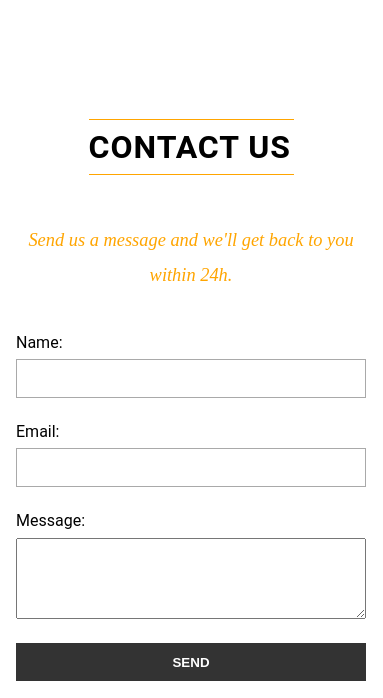
Test: renders success message on success
Type "Cristian" into the field labelled "Name:".
click(191, 379); type("Cristian")  # box [16,359,366,398]
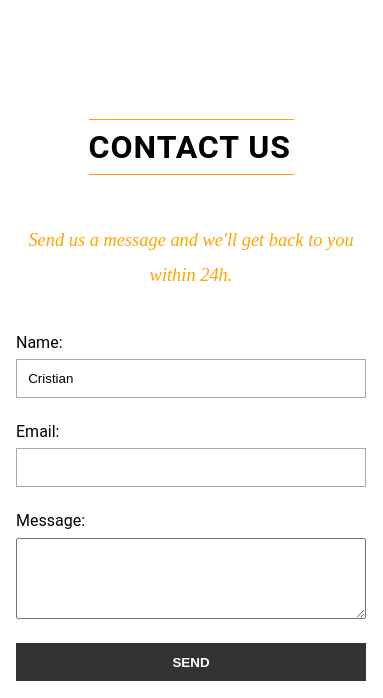
Type "cmioveanu@gmail.com" into the field labelled "Email:".
click(191, 468); type("cmioveanu@gmail.com")  # box [16,448,366,488]
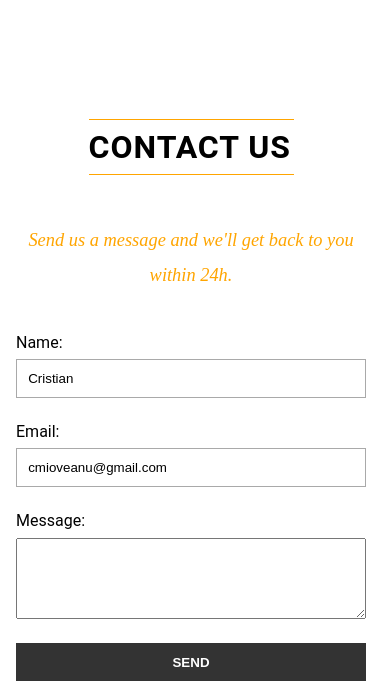
Type "Hello world!" into the text box labelled "Message:".
click(191, 579); type("Hello world!")  # box [16,538,366,620]
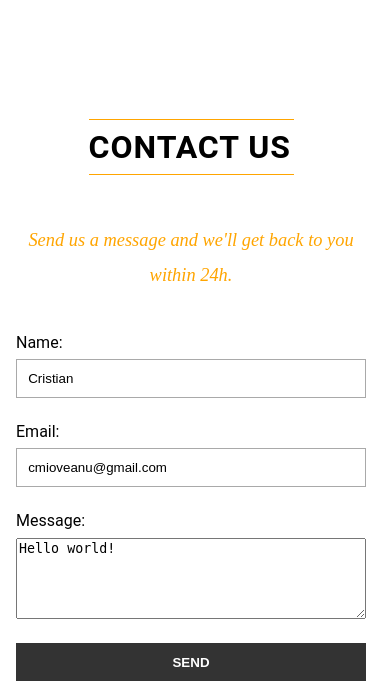
Click the button "Send".
click(191, 662)  # box [16,644,366,681]
(page scrolled)
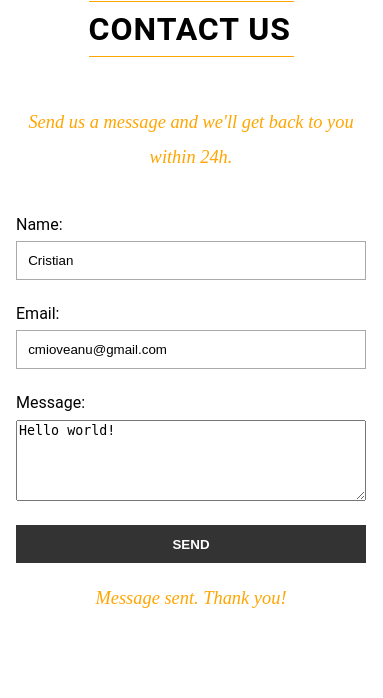
Check: the text "Message sent. Thank you!" is shown, box [96,588,286,608]
